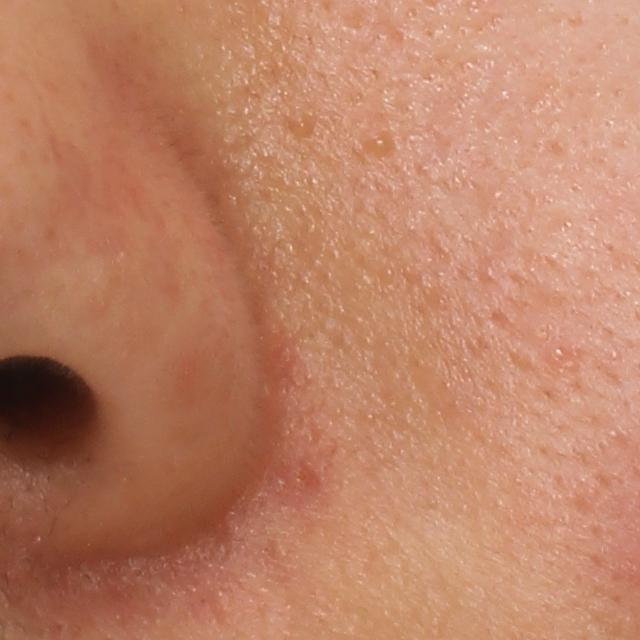comedo: (288, 110, 315, 138)
